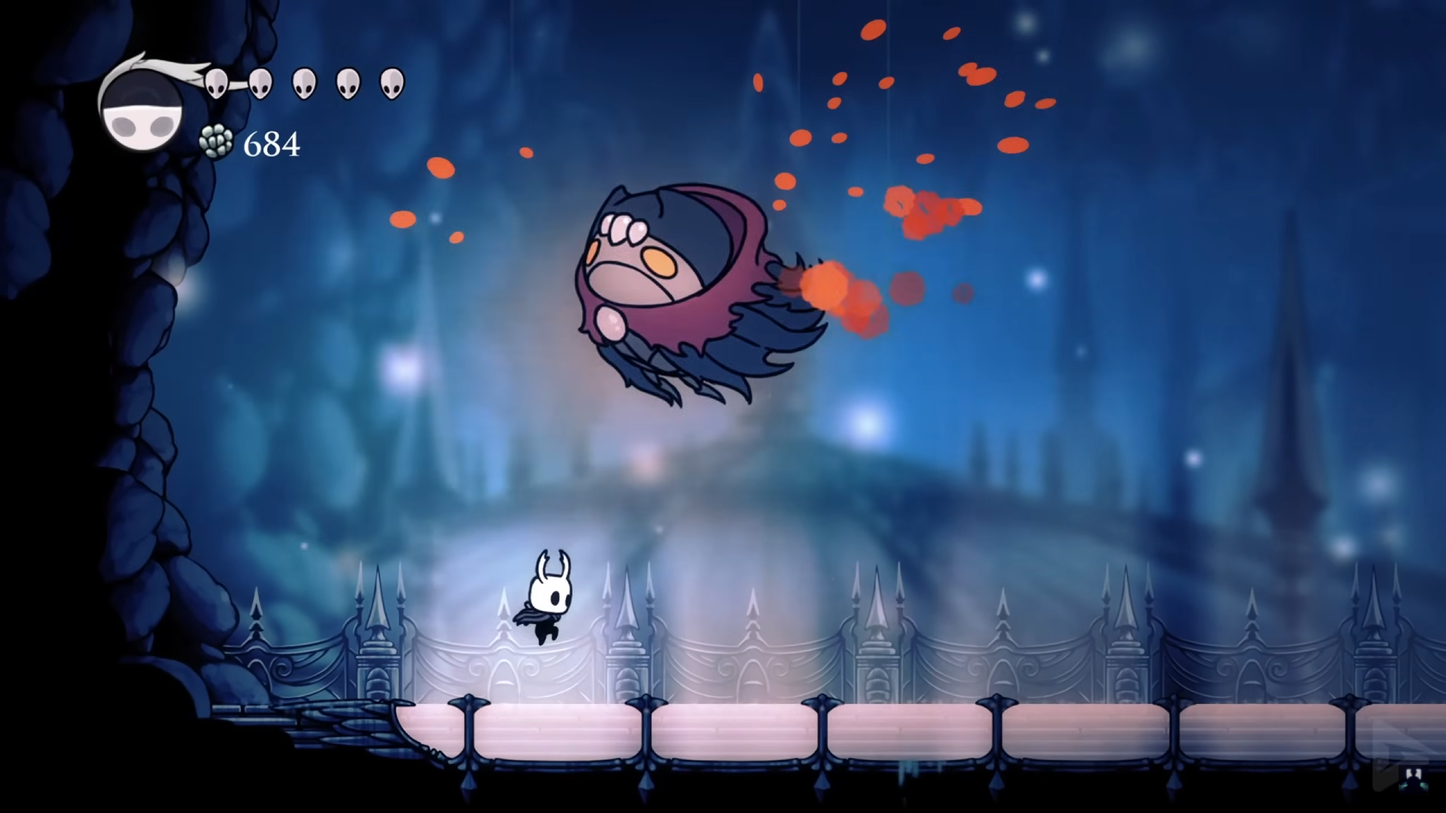HK: (514, 545, 576, 646)
